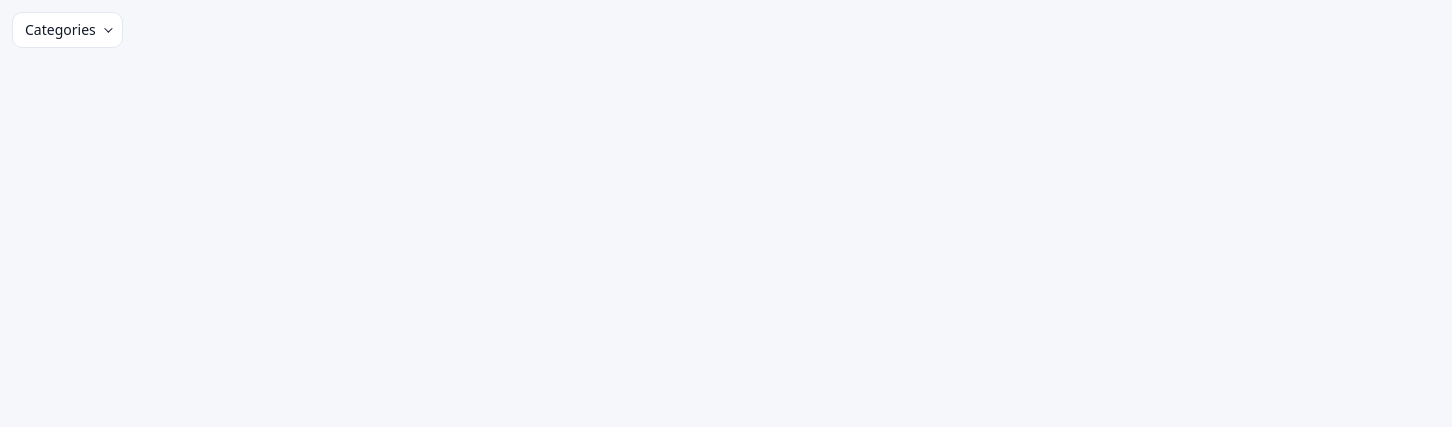
CategoryMenu › opens a panel with every category, each linking to its results, and closes on Escape
The width and height of the screenshot is (1452, 427).
Click the button "Categories" at (67, 30), box [12,12,123,48]
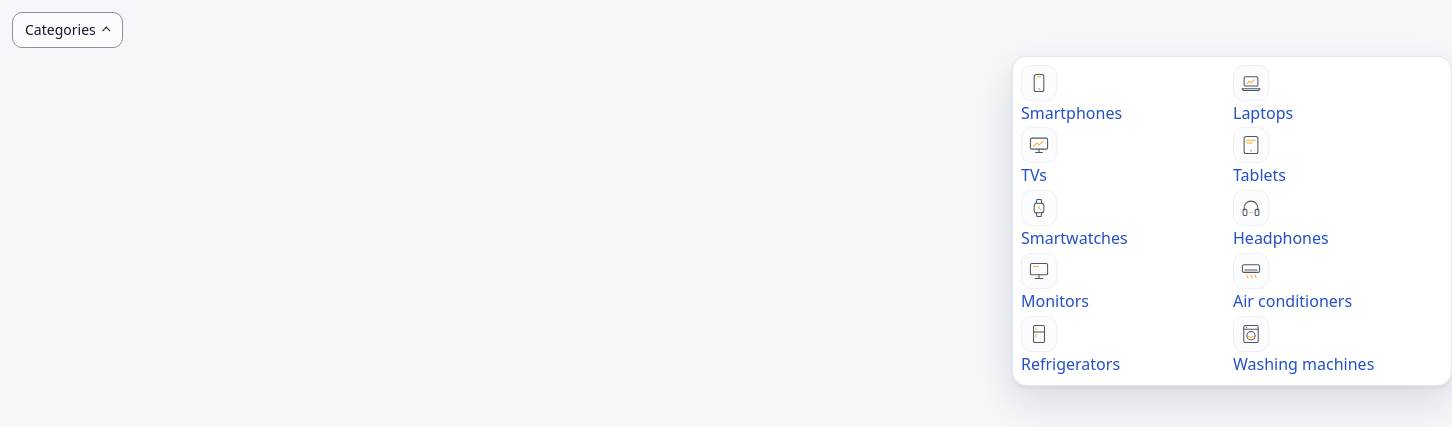
Expected: the button "Categories" is expanded, [12,12,123,48]
Press Escape
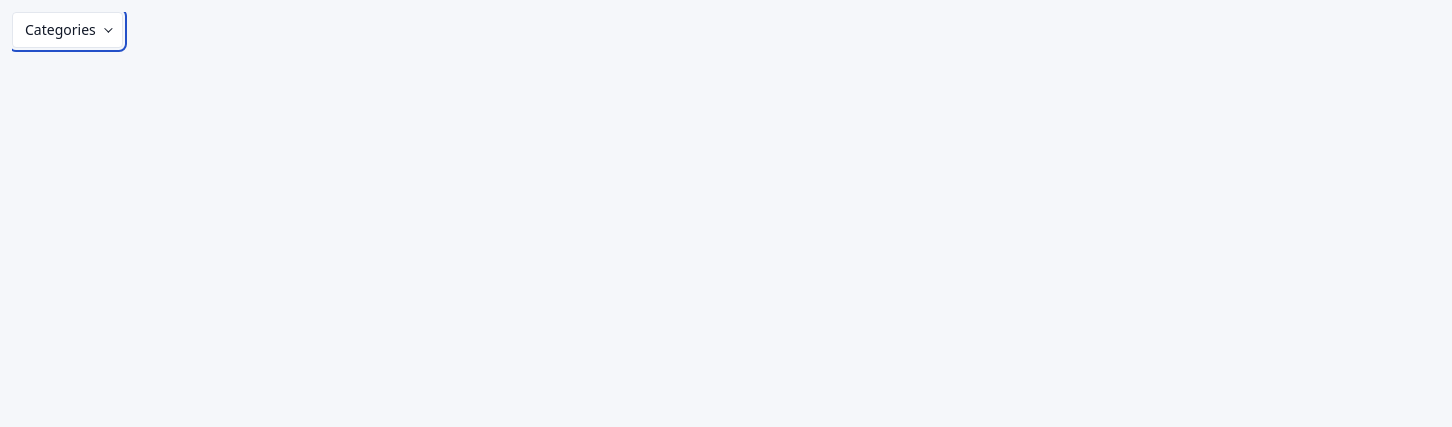
Expected: the button "Categories" is collapsed, [12,12,123,48]
